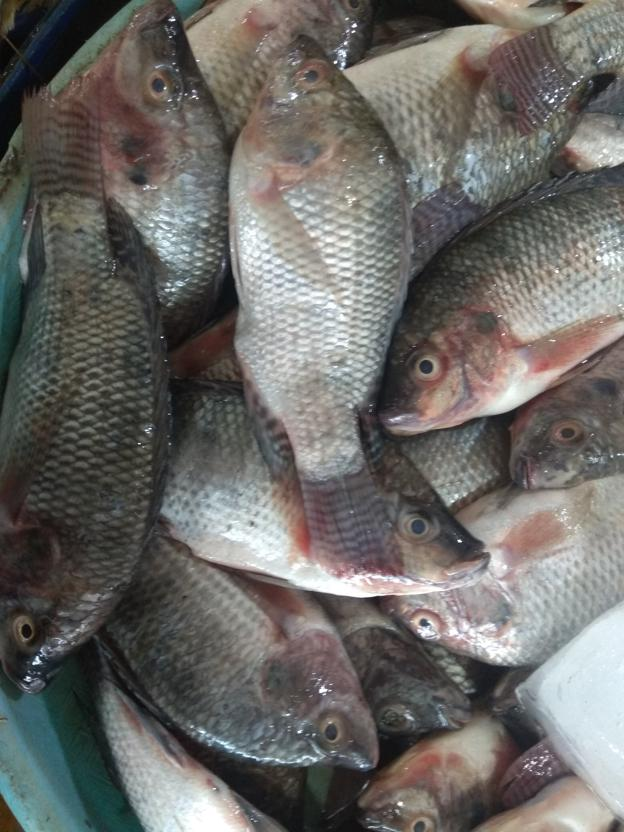Fish head: (37, 1, 226, 192), (320, 443, 491, 598), (236, 32, 394, 177), (375, 293, 521, 435), (1, 527, 113, 693), (260, 632, 380, 774), (340, 626, 475, 735), (382, 565, 524, 668), (508, 377, 624, 488), (355, 743, 488, 831)
Fish tail: (294, 460, 402, 579), (483, 20, 586, 140), (17, 91, 108, 217)
